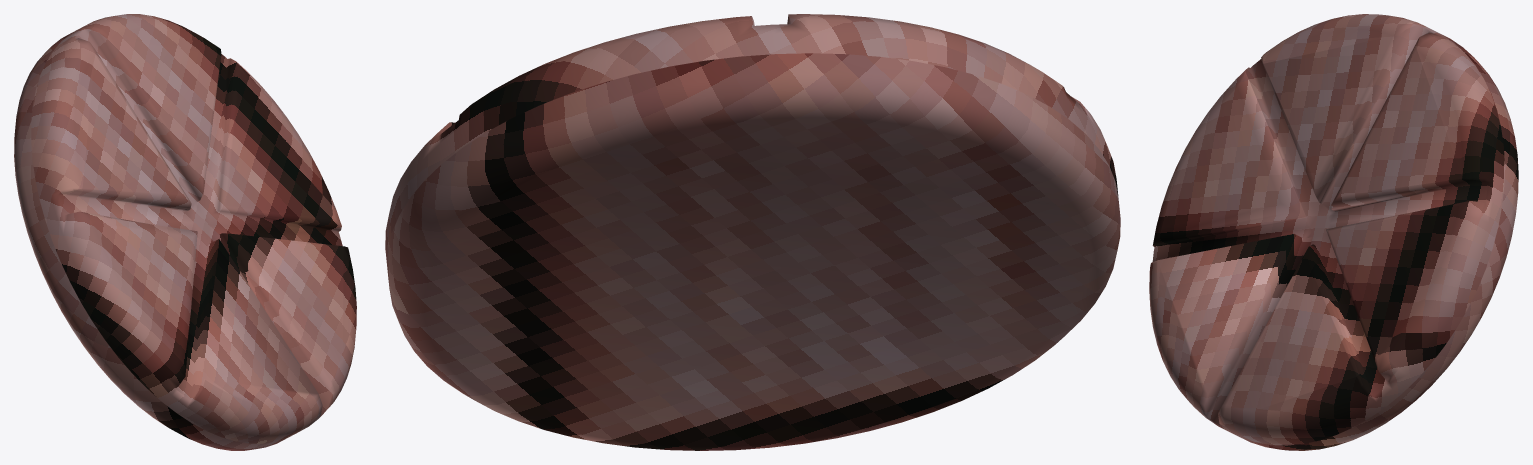
The model's file is AL_ChocolateCalienteBar_Static.fbx.
The picture shows the model from 3 angles, left to right: view 1: azimuth 30°, elevation 25°; view 2: azimuth 150°, elevation 25°; view 3: azimuth 270°, elevation 25°; orthographic projection. The views are drawn at different scales.
Parts seen in each view (by area): view 1: Cylinder; view 2: Cylinder; view 3: Cylinder.
Boxes of the visible parts, x1,y1,x2,y2 form: Cylinder: (14, 14, 356, 450); Cylinder: (385, 14, 1120, 450); Cylinder: (1149, 14, 1518, 450).
Bounding box in the file's own units: 0.2009 × 0.212 × 0.2255.
